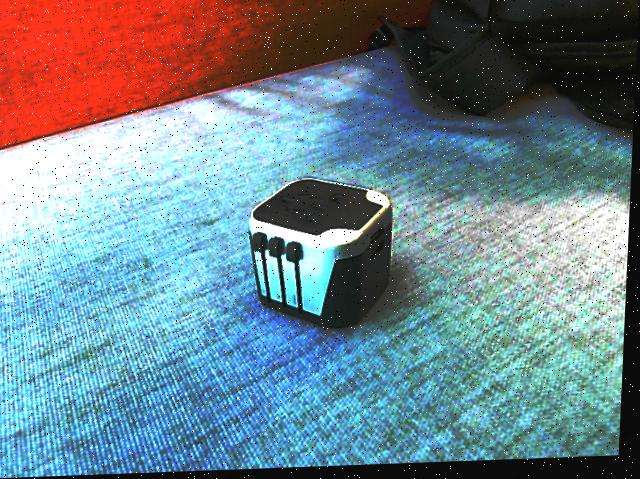adapter: (245, 177, 396, 334)
